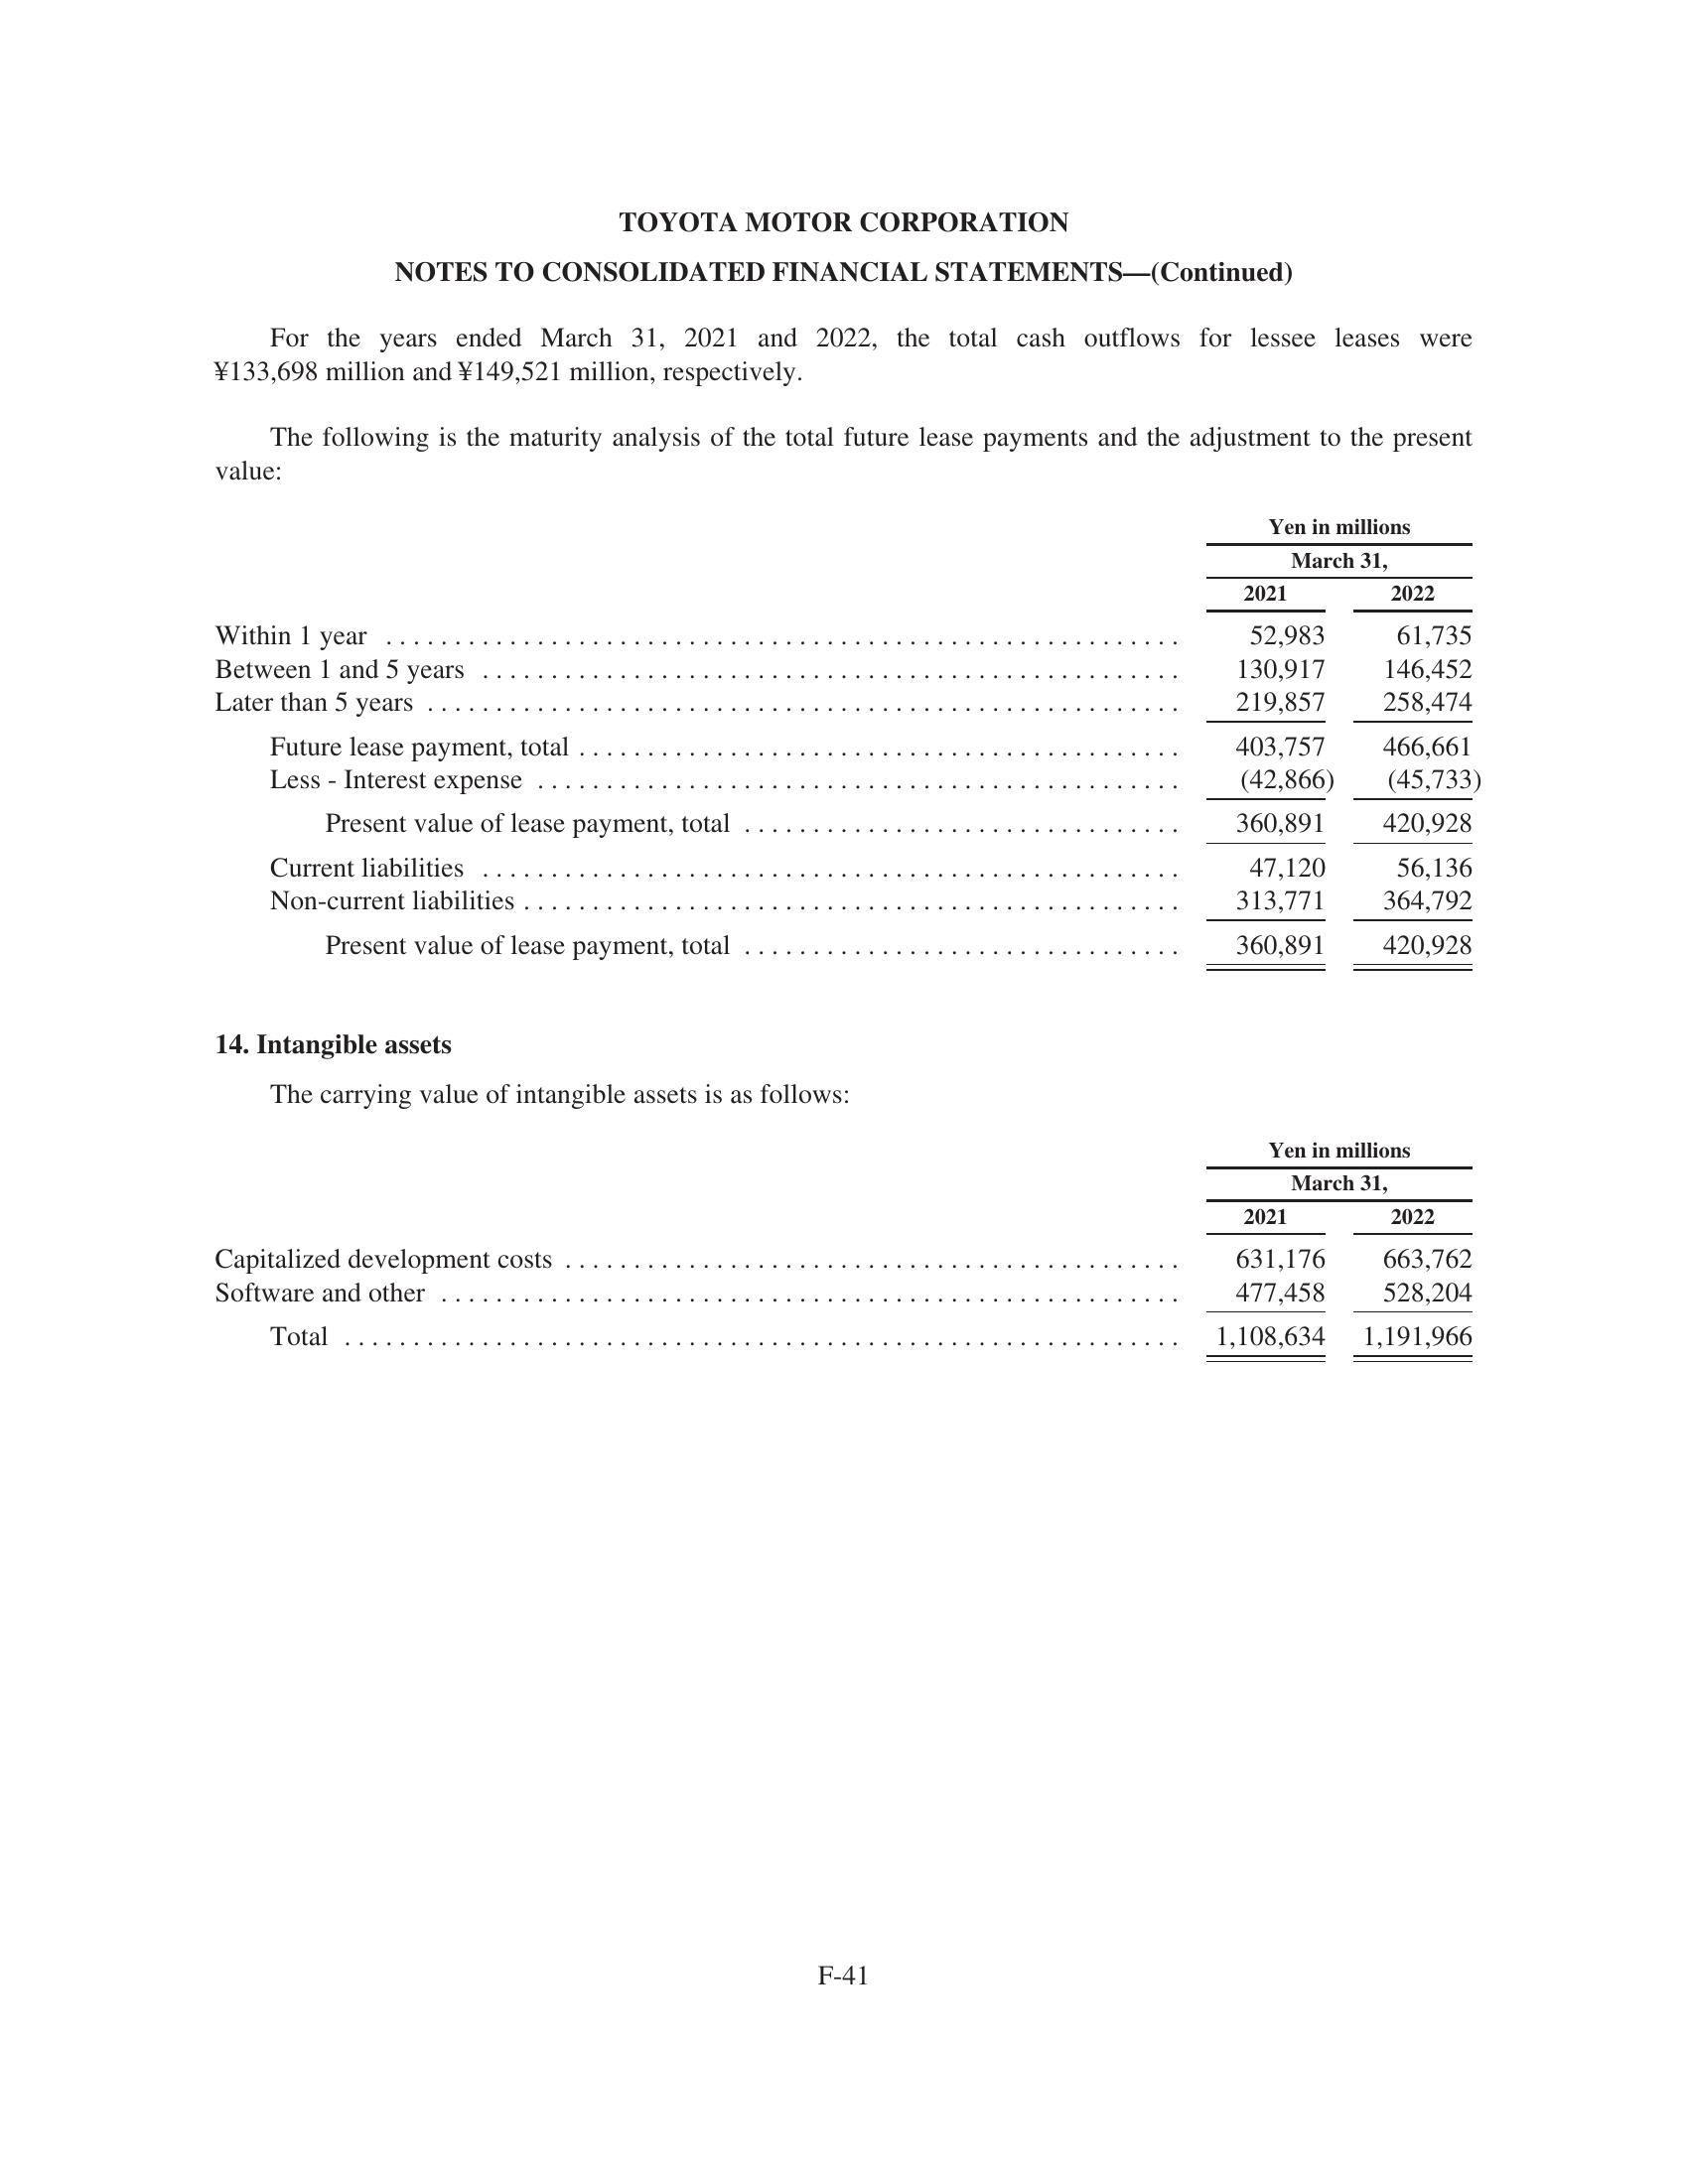Footer: (0, 1954, 1688, 2184)
Header: (0, 0, 1688, 179)
Table: (193, 489, 1500, 987), (193, 1120, 1491, 1379)
